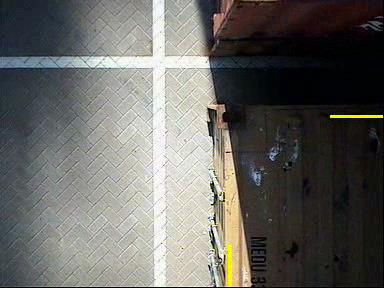groundmarker_2: (101, 68, 184, 122), (111, 239, 171, 282)
